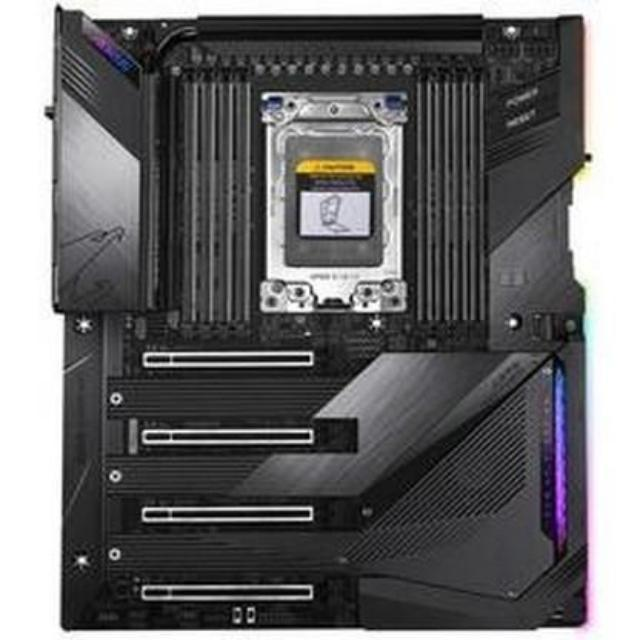Mainboard: (51, 9, 594, 628)
